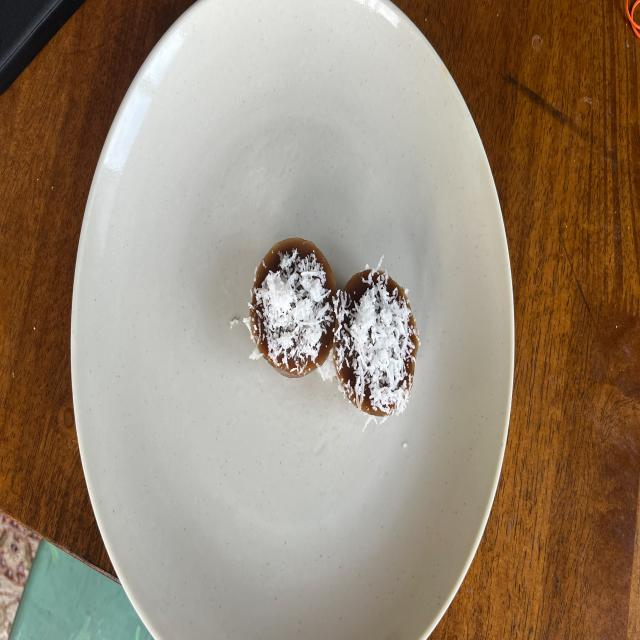Kuih lompang: (334, 267, 419, 418), (250, 238, 336, 378)
